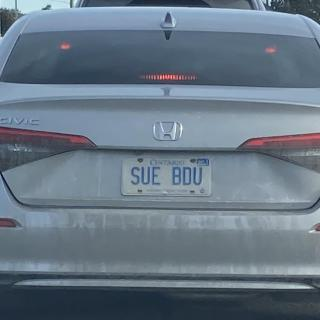license: (121, 158, 214, 198)
